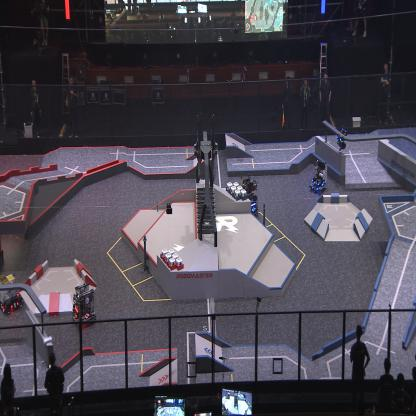car: (71, 281, 97, 330), (0, 271, 24, 316), (240, 176, 260, 216), (309, 160, 328, 193)
